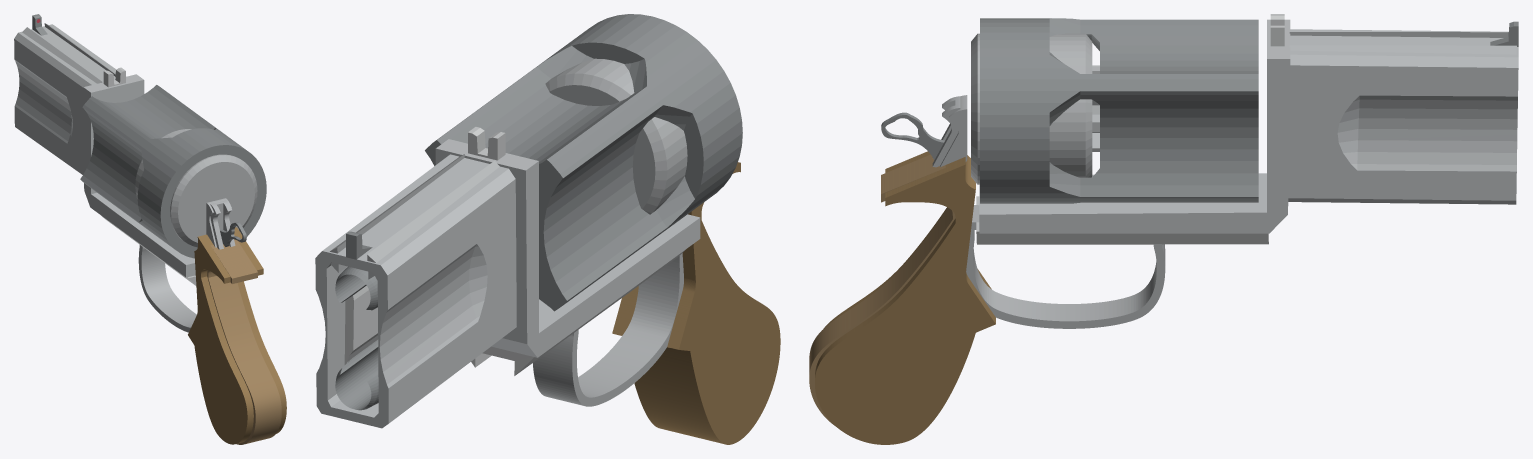
Rendered from cyber-cycle.glb.
3 renders of one model, left to right at view 1: azimuth 30°, elevation 25°; view 2: azimuth 150°, elevation 25°; view 3: azimuth 270°, elevation 25°, orthographic. The views are drawn at different scales.
Visible parts, largest first — view 1: Mesh_Mesh_head_geo.001_lambert2SG.001; view 2: Mesh_Mesh_head_geo.001_lambert2SG.001; view 3: Mesh_Mesh_head_geo.001_lambert2SG.001.
Part boxes in pixels (x1,y1,x2,y2): Mesh_Mesh_head_geo.001_lambert2SG.001: (14, 14, 286, 444); Mesh_Mesh_head_geo.001_lambert2SG.001: (315, 14, 780, 444); Mesh_Mesh_head_geo.001_lambert2SG.001: (809, 14, 1518, 444).
Size of the model in its own units: 0.02 by 0.0489 by 0.0764.
